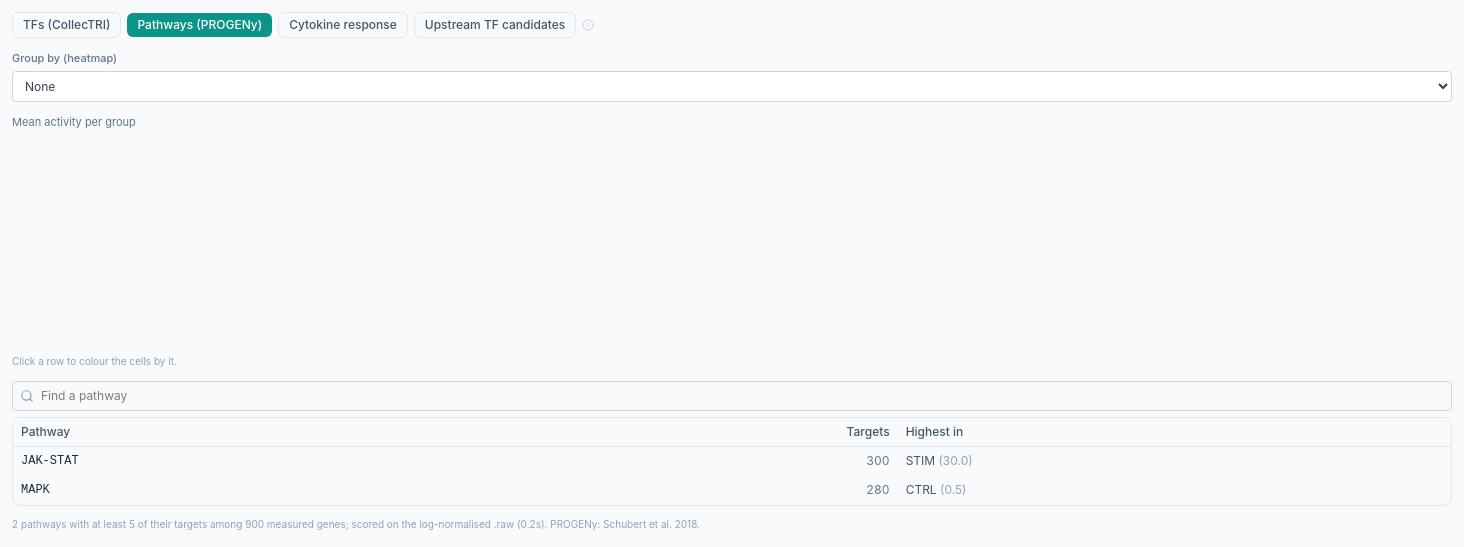
Test case: UnifiedActivitySubtab › switches to TFs and shows why a dataset cannot be scored
Expected: the text "JAK-STAT" is shown, [13, 446, 504, 476]
Click the button "TFs (CollecTRI)": (67, 25) [12, 12, 121, 38]
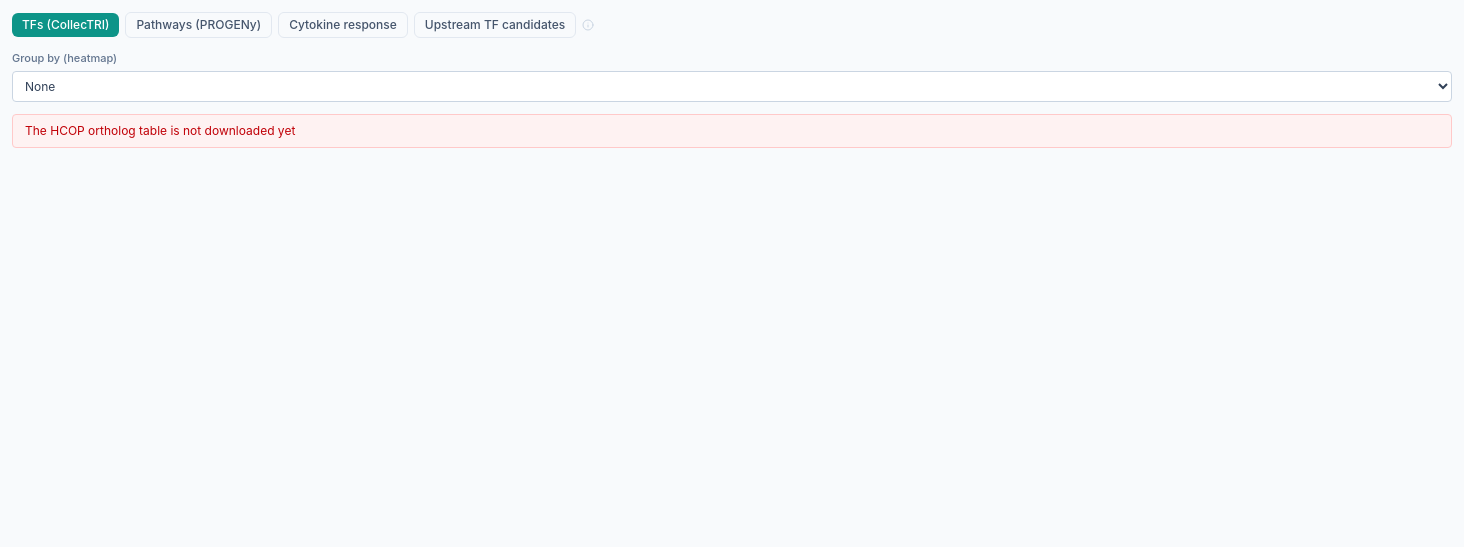
Now the message shows "HCOP ortholog table", box [25, 122, 295, 138]
